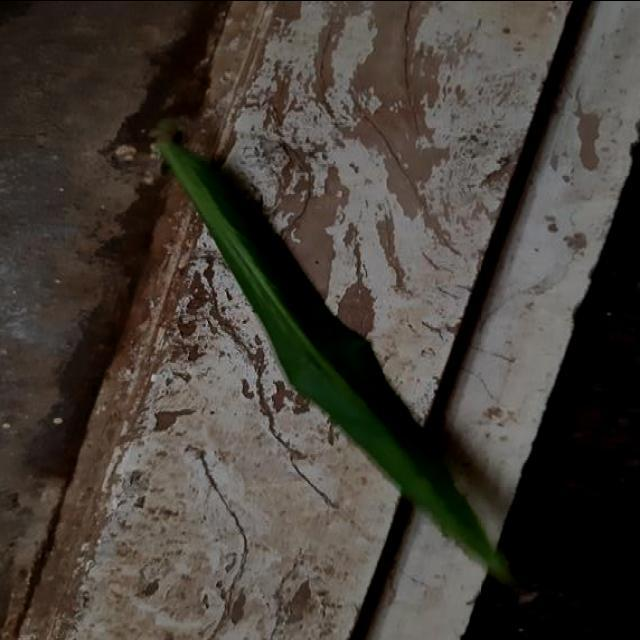leaf: (148, 123, 515, 586)
